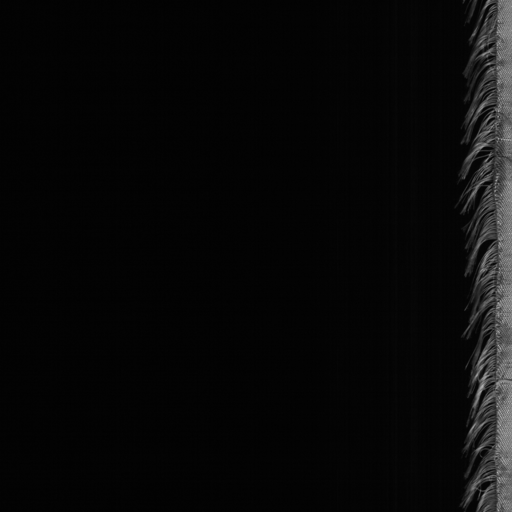defect: (492, 130, 512, 157)
